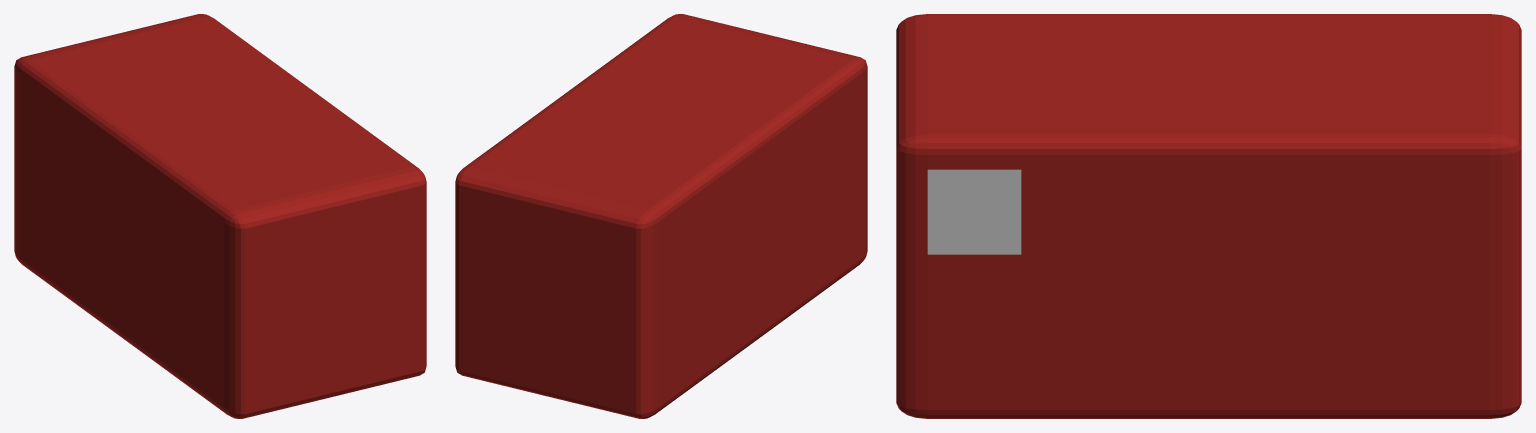
Rendered from Message_Highlight.dae.
3 views of the same model, side by side, from view 1: azimuth 30°, elevation 25°; view 2: azimuth 150°, elevation 25°; view 3: azimuth 270°, elevation 25° (orthographic). The views are drawn at different scales.
Visible parts, largest first — view 1: Cube; view 2: Cube; view 3: Cube, Plane.
Part boxes in pixels (box(x1,y1,x2,y2)): Cube: box(14, 14, 426, 418); Cube: box(455, 14, 867, 418); Cube: box(896, 14, 1521, 418); Plane: box(927, 169, 1021, 254).
Size of the model in its own units: 1 by 2 by 1.
